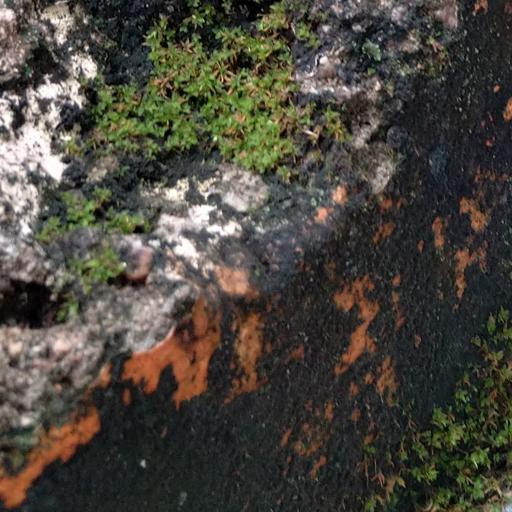algae: (0, 0, 509, 509)
